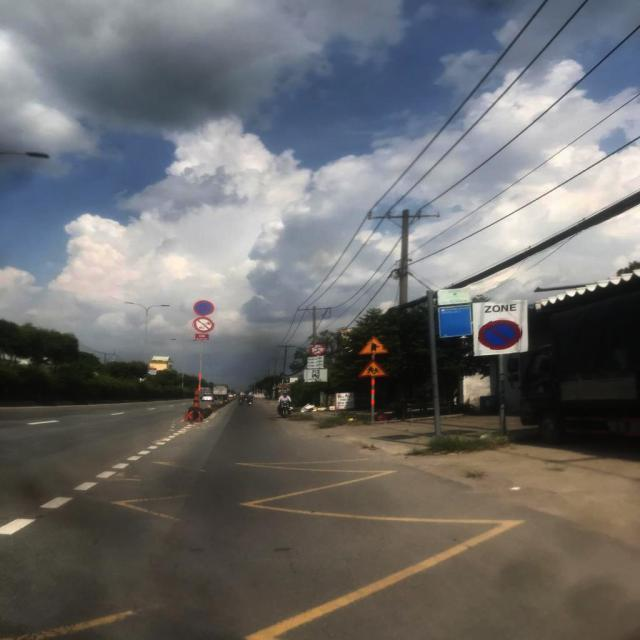107-cam-oto-khach-va-oto-tai: (308, 344, 326, 357)
130-cam-dung-va-do-xe: (193, 300, 214, 316)
131a-cam-do-xe: (476, 321, 522, 348)
207-giao-nhau-voi-duong-khong-uu-tien: (357, 336, 389, 356)
225-chu-y-tre-em: (356, 360, 386, 378)
